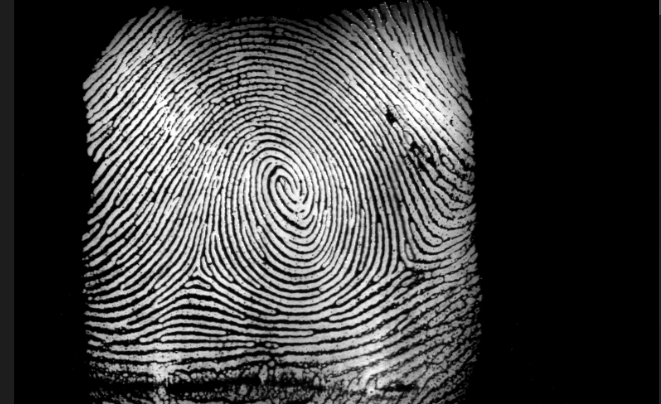deltas: (169, 244, 229, 301), (375, 238, 434, 293)
nucleo: (256, 160, 312, 220)
